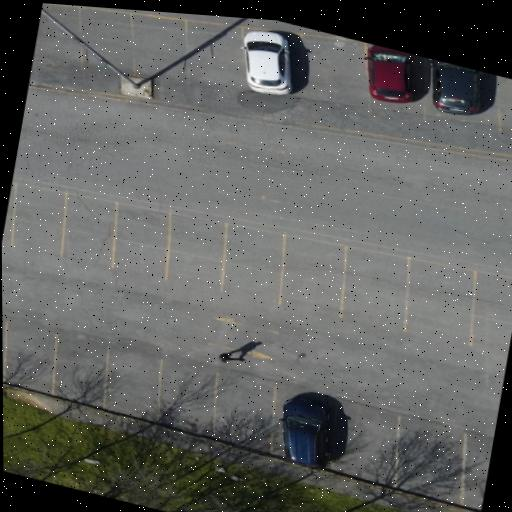car: (280, 397, 329, 467), (242, 30, 292, 94), (365, 45, 413, 102), (432, 60, 480, 114)
person: (220, 351, 244, 361)
